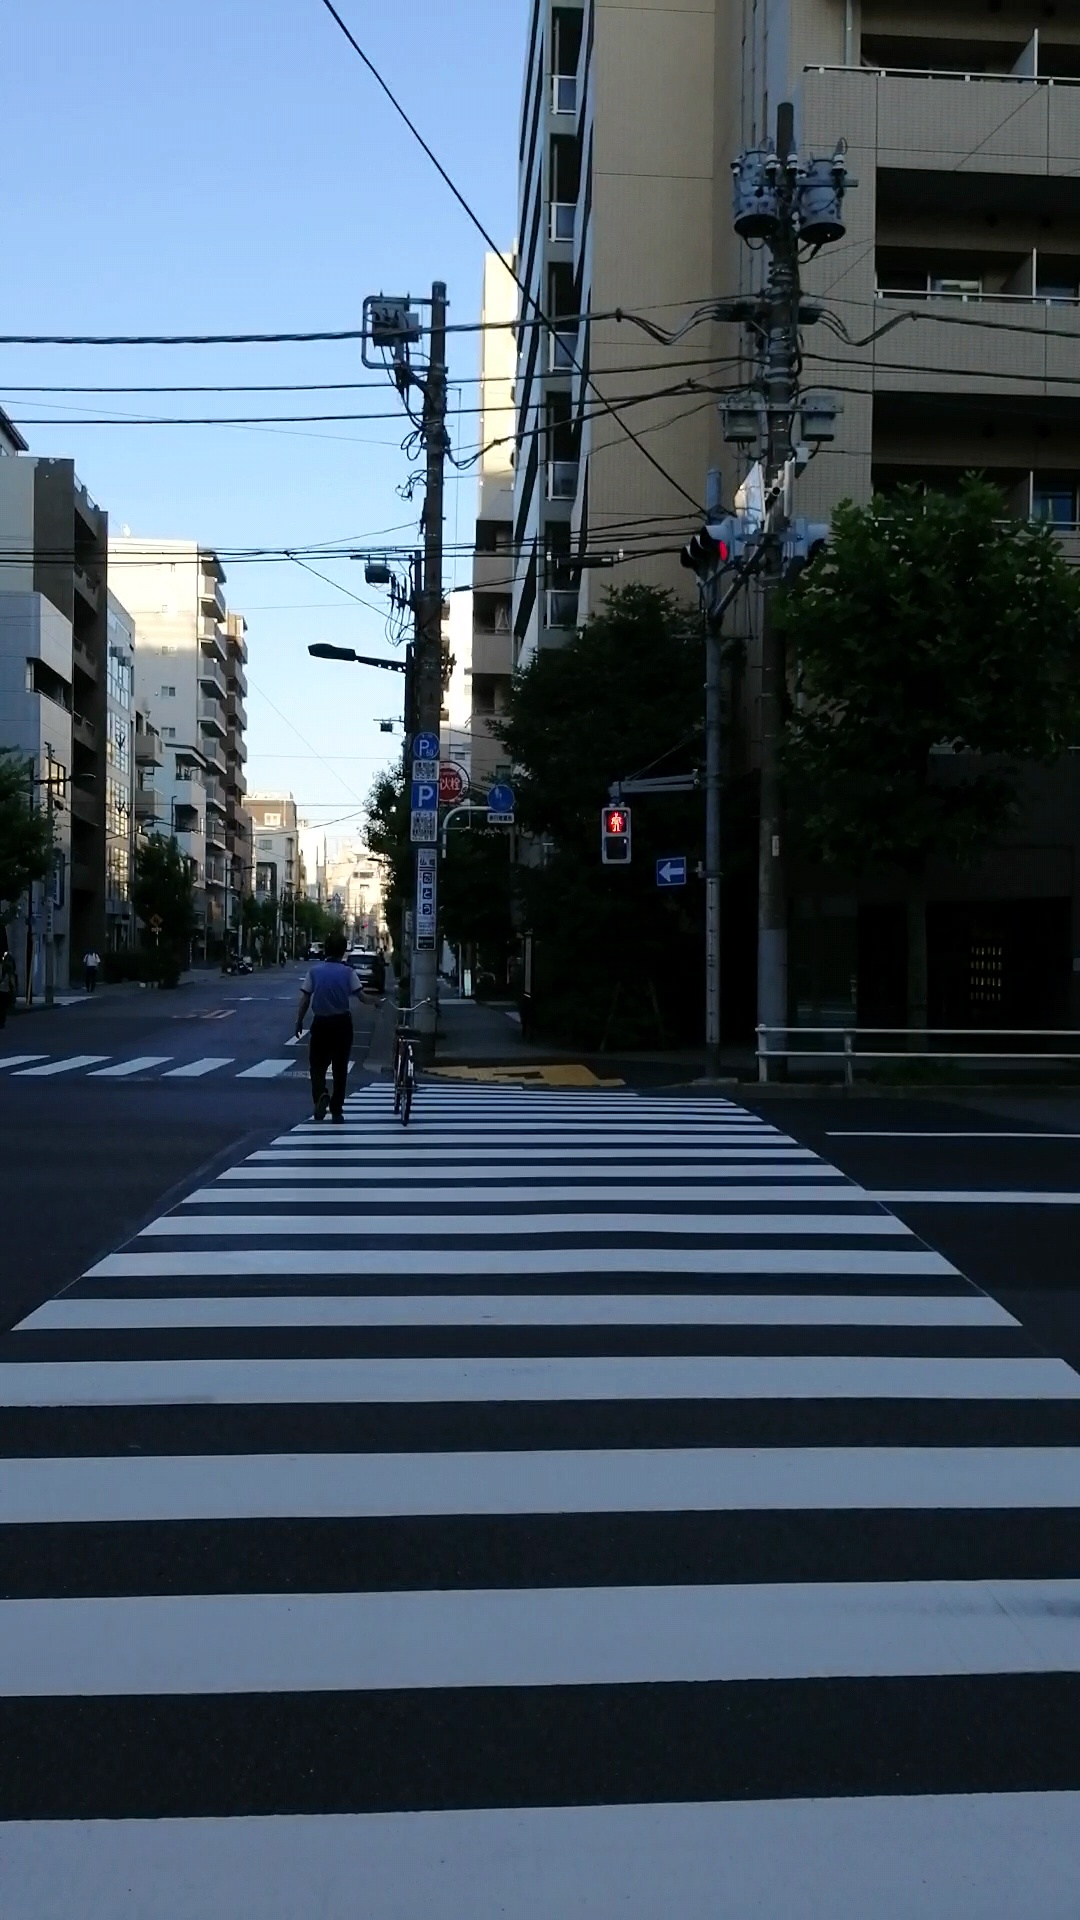red: (597, 806, 632, 866)
